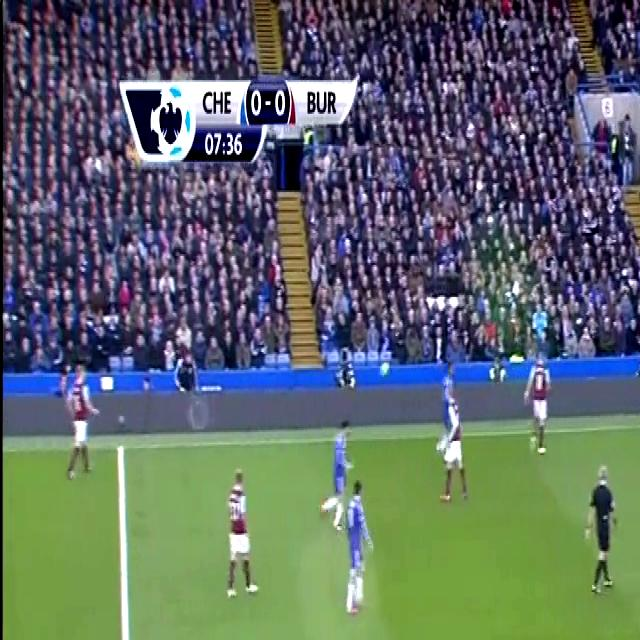referee: (574, 448, 628, 608)
soccer-player: (214, 454, 264, 606), (339, 474, 382, 626), (431, 352, 472, 508), (60, 352, 104, 488), (520, 346, 557, 458), (321, 413, 353, 531)
